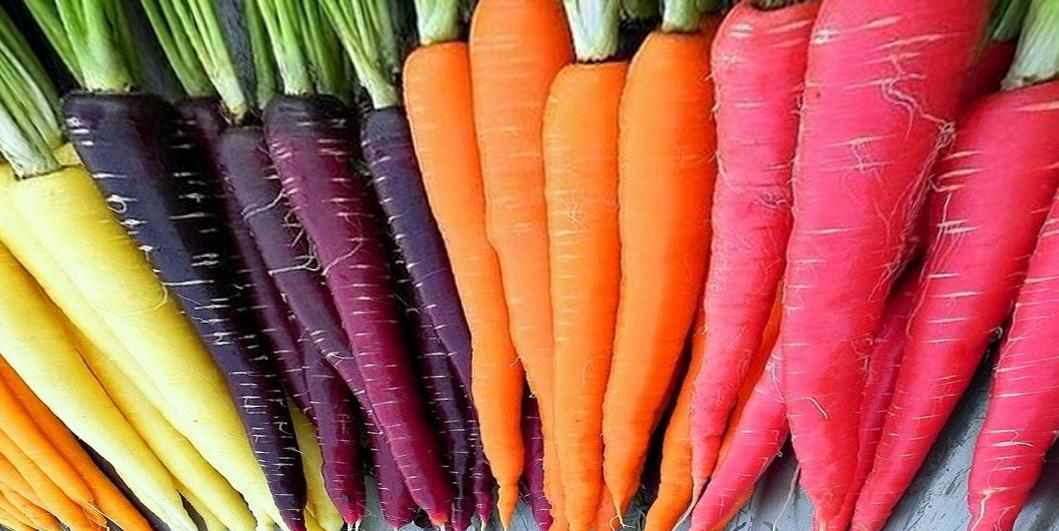carrot: (414, 2, 693, 531)
